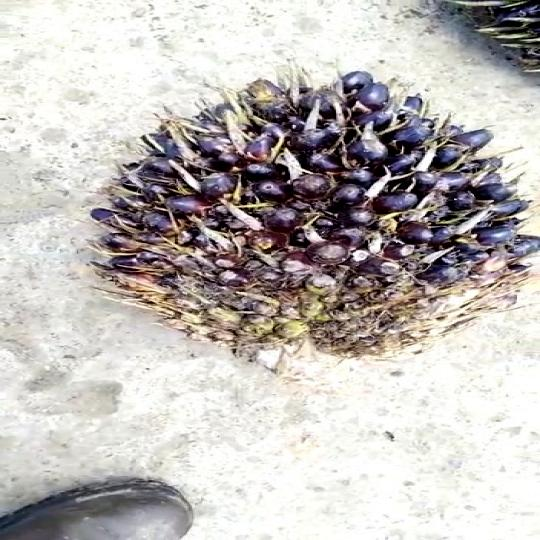mentah: (93, 59, 540, 374)
